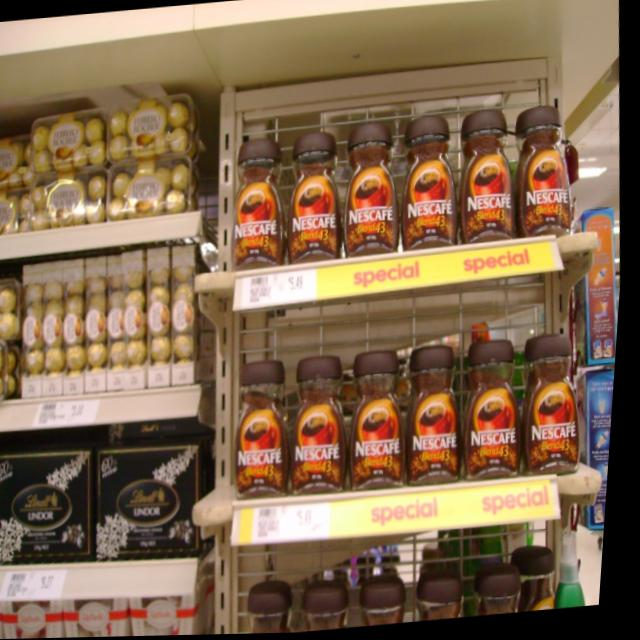q115: (89, 415, 222, 564), (0, 433, 109, 569)
q13: (517, 327, 600, 488), (505, 81, 588, 241), (225, 344, 306, 506), (460, 326, 542, 482), (288, 335, 366, 495), (392, 88, 469, 246), (455, 93, 526, 250), (340, 99, 413, 250), (401, 331, 476, 474), (230, 119, 298, 271), (351, 342, 421, 488), (282, 128, 348, 260)
